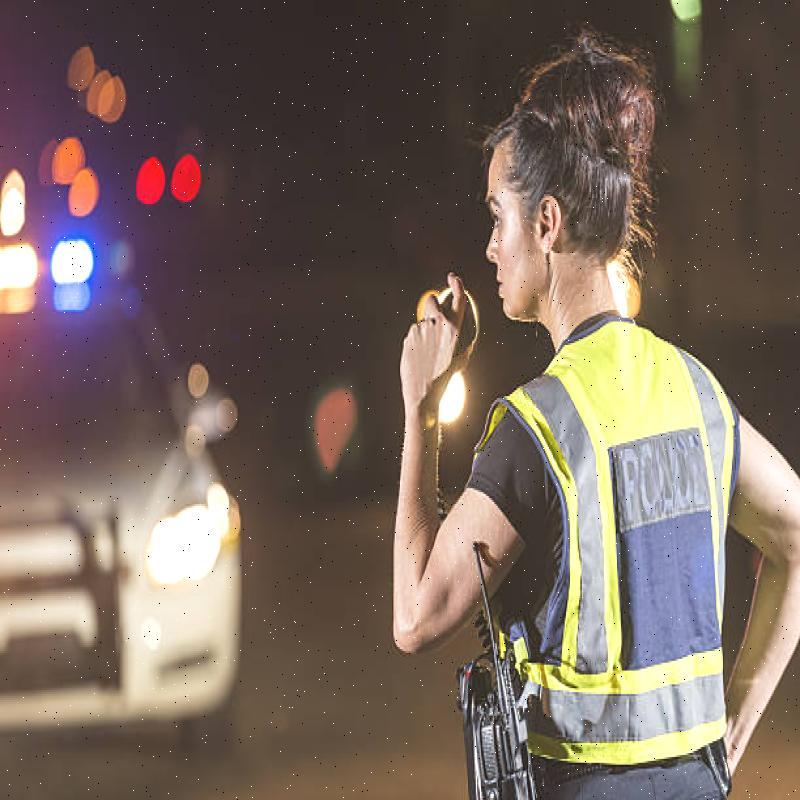AmbulanceSiren: (0, 219, 125, 317)
